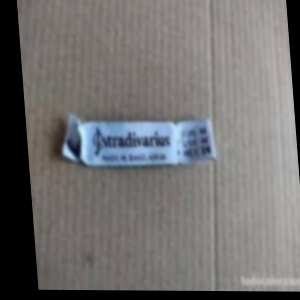stradivarius: (138, 58, 208, 191)
